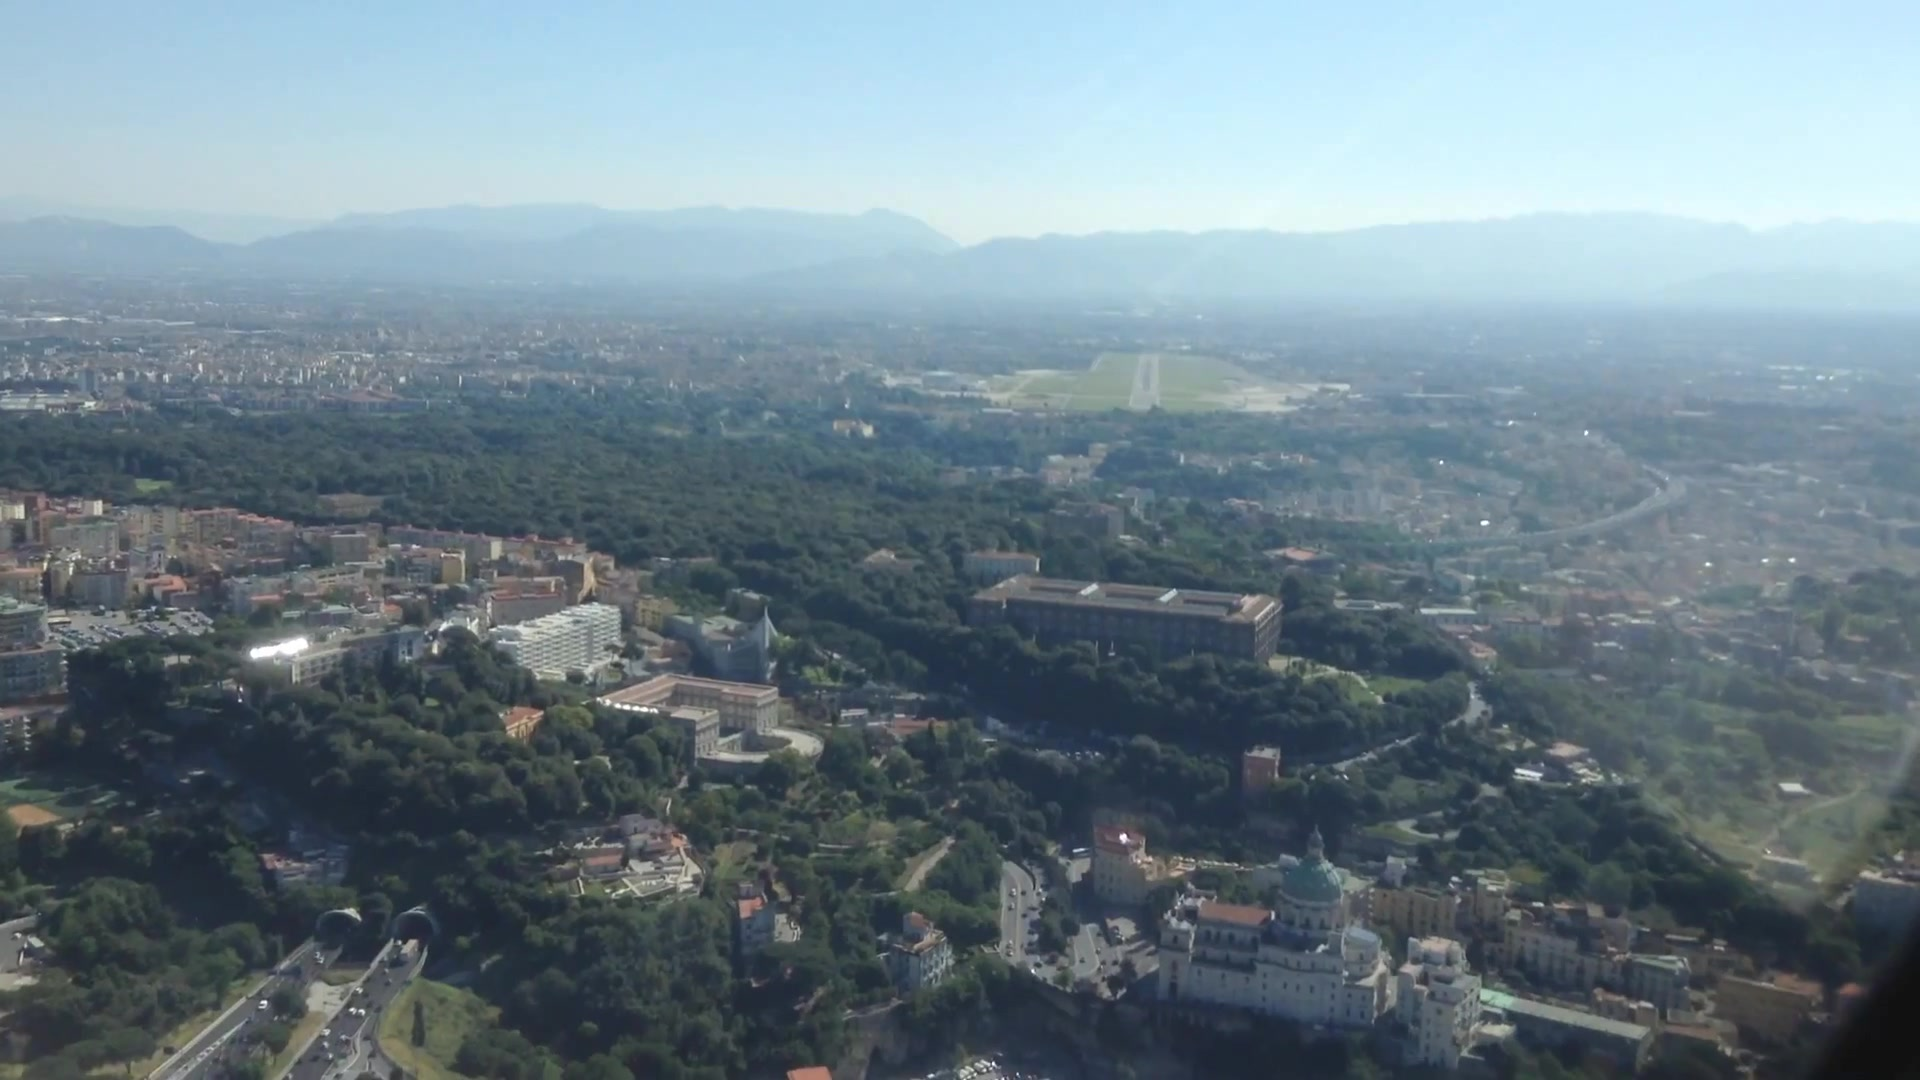runway: (1129, 353, 1164, 410)
